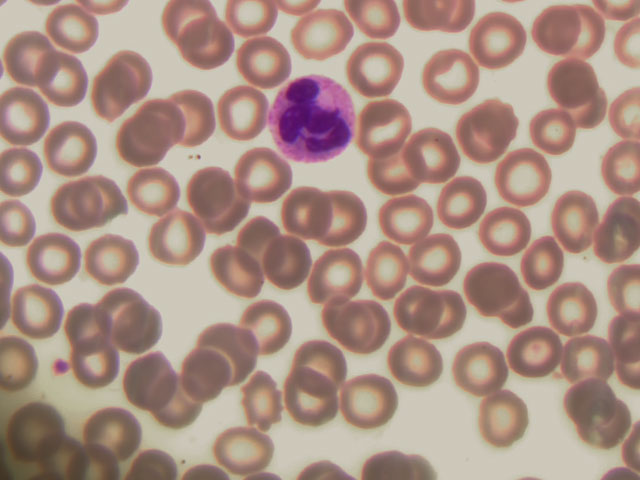Platelets: (49, 354, 75, 381)
RBC: (45, 4, 102, 56), (35, 53, 92, 105), (41, 120, 98, 172), (57, 176, 114, 228), (26, 227, 83, 279), (83, 232, 140, 284), (92, 277, 149, 329), (114, 301, 171, 353), (66, 298, 123, 350), (74, 349, 131, 401), (119, 354, 176, 406), (145, 379, 202, 431), (179, 349, 236, 401), (201, 322, 258, 374), (242, 299, 299, 351), (209, 248, 266, 300), (150, 212, 207, 264), (128, 167, 185, 219), (185, 167, 242, 219), (235, 149, 292, 201), (231, 210, 288, 262), (261, 241, 318, 293), (276, 183, 333, 235), (310, 192, 367, 244), (309, 251, 366, 303), (330, 301, 387, 353), (288, 337, 345, 389), (283, 373, 340, 425), (235, 372, 292, 424), (214, 424, 271, 476), (82, 408, 139, 460), (6, 400, 63, 452), (339, 378, 396, 430), (387, 335, 444, 387), (389, 284, 446, 336), (359, 241, 416, 293), (411, 233, 468, 285), (376, 191, 433, 243), (366, 143, 423, 195), (408, 126, 465, 178), (356, 98, 413, 150), (347, 42, 404, 94), (425, 51, 482, 103), (470, 13, 527, 65), (459, 101, 516, 153), (496, 152, 553, 204), (434, 172, 491, 224), (475, 205, 532, 257), (518, 238, 575, 290), (467, 259, 524, 311), (504, 326, 561, 378), (450, 339, 507, 391), (475, 393, 532, 445), (563, 376, 620, 428), (576, 405, 633, 457), (558, 336, 615, 388), (545, 282, 602, 334), (548, 192, 605, 244), (525, 112, 582, 164), (541, 60, 598, 112), (563, 80, 620, 132), (529, 5, 586, 57), (296, 6, 353, 58), (1, 30, 57, 82), (1, 85, 57, 137), (103, 50, 154, 103), (115, 114, 166, 167), (145, 95, 196, 148), (167, 91, 218, 144), (215, 86, 266, 139), (239, 36, 290, 89), (182, 21, 233, 74), (15, 287, 62, 335), (1, 146, 47, 194), (1, 197, 40, 245)
WBC: (269, 76, 355, 161)
